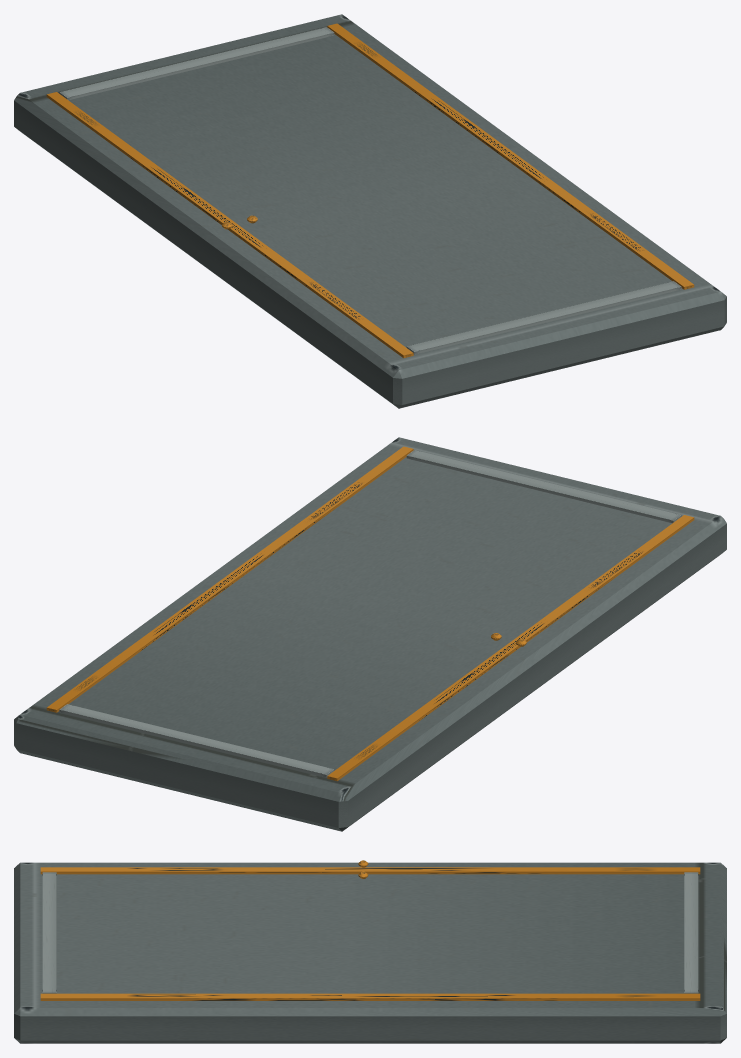
The model's file is floor_2m_LOD0.obj.
3 views of the same model, one above another, from view 1: azimuth 30°, elevation 25°; view 2: azimuth 150°, elevation 25°; view 3: azimuth 270°, elevation 25° (orthographic). The views are drawn at different scales.
Visible parts, largest first — view 1: L02_floor_2m_LOD0; view 2: L02_floor_2m_LOD0; view 3: L02_floor_2m_LOD0.
Boxes of the visible parts, left/top/right/bottom form: L02_floor_2m_LOD0: left=14, top=14, right=726, bottom=408; L02_floor_2m_LOD0: left=14, top=437, right=726, bottom=831; L02_floor_2m_LOD0: left=14, top=860, right=726, bottom=1043.
Bounding box in the file's own units: 2 × 0.266 × 4.
1 material, 1 textured.
